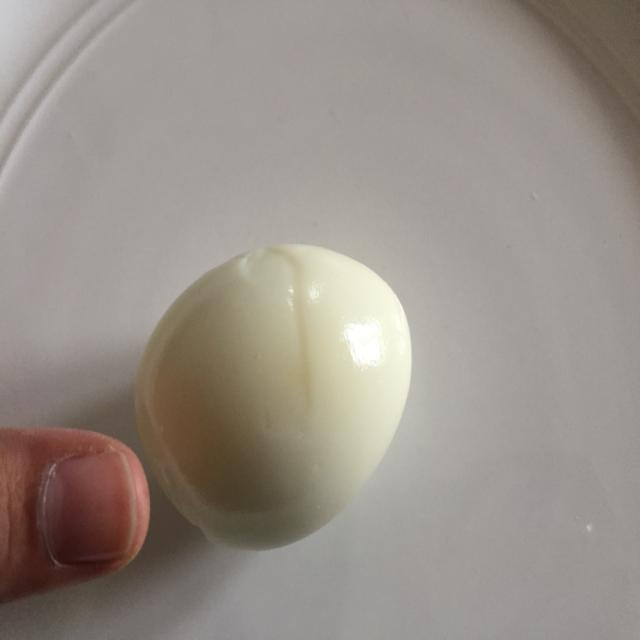Egg: (148, 239, 420, 562)
Finger: (1, 410, 162, 619)
